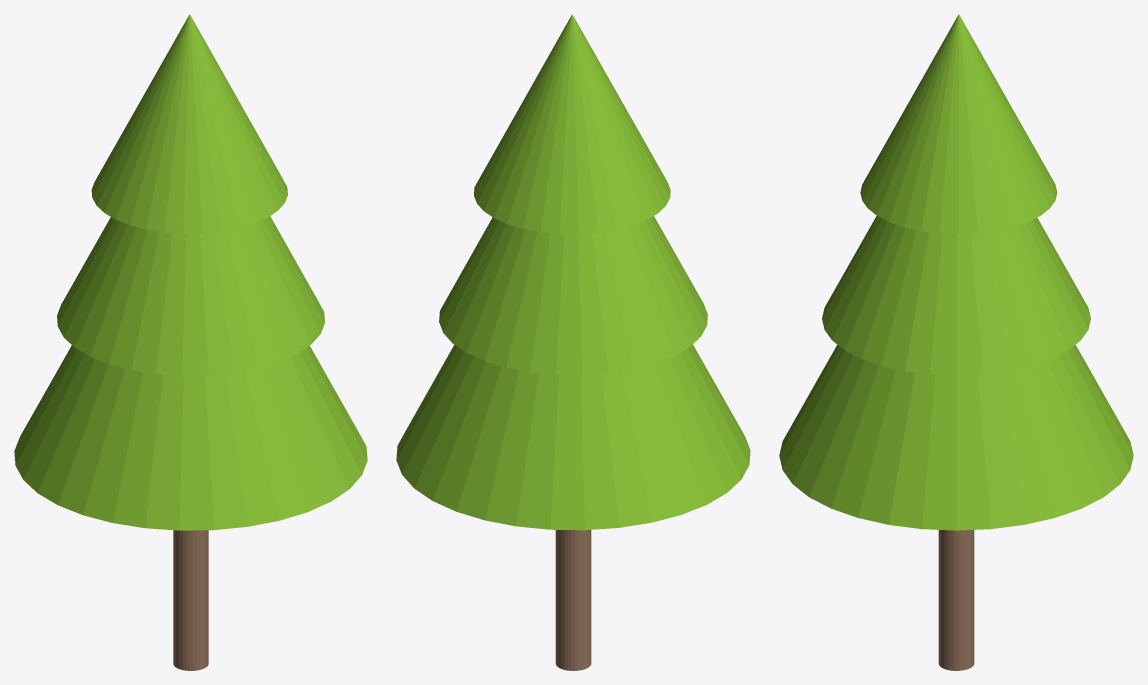
File: pino.fbx
3 views of the same model, side by side, from view 1: azimuth 30°, elevation 25°; view 2: azimuth 150°, elevation 25°; view 3: azimuth 270°, elevation 25° (orthographic).
Visible parts, largest first — view 1: hojas, tallo; view 2: hojas, tallo; view 3: hojas, tallo.
Boxes of the visible parts, x1=… form: hojas: x1=14, y1=14, x2=367, y2=530; tallo: x1=173, y1=530, x2=208, y2=670; hojas: x1=396, y1=14, x2=750, y2=530; tallo: x1=555, y1=530, x2=591, y2=670; hojas: x1=779, y1=14, x2=1133, y2=530; tallo: x1=938, y1=530, x2=974, y2=670.
Size of the model in its own units: 263 by 533 by 263.
1 material, 1 textured.
